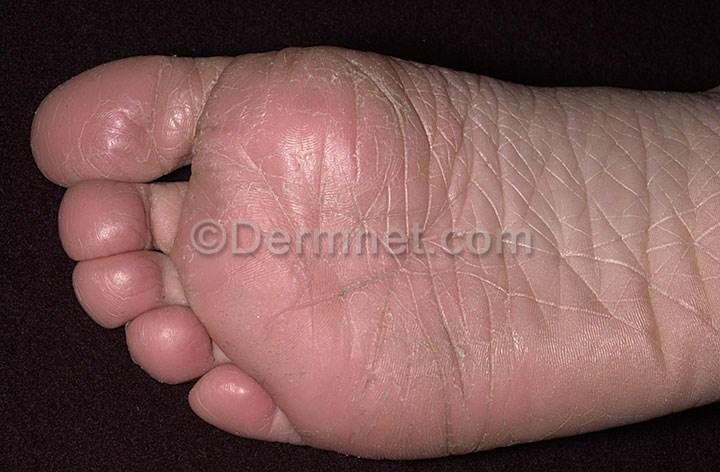Eczema: (237, 80, 401, 184), (78, 98, 222, 157), (79, 194, 150, 245), (150, 315, 212, 367), (96, 259, 172, 301), (214, 372, 271, 412)
